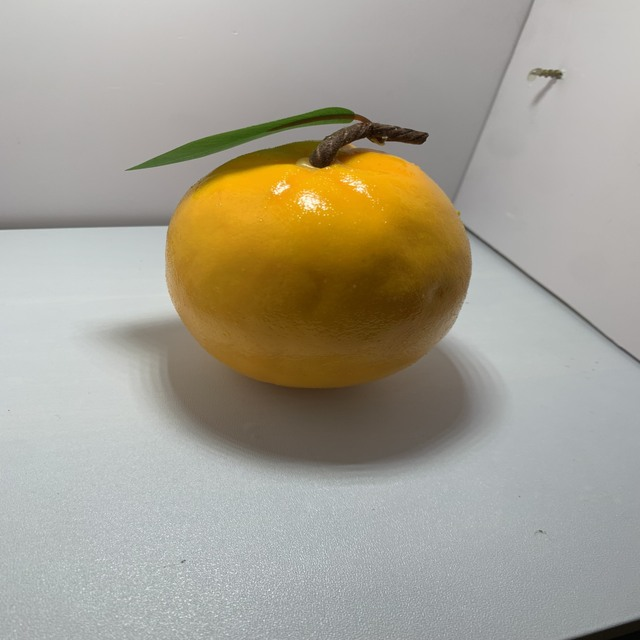Cam vang: (154, 109, 484, 393)
